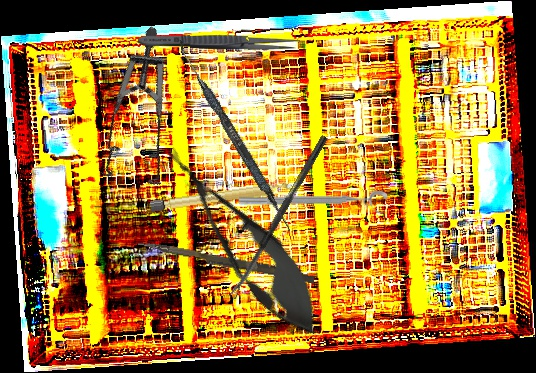Dressing Forceps: (137, 32, 301, 52)
Fixation Ring: (238, 190, 388, 218)
Micro Scissor: (147, 131, 340, 350)
Pusher: (136, 240, 316, 284)
Scalpel Handle: (149, 181, 294, 213)
Spatula Surgical: (170, 39, 298, 233)
Speculum: (56, 25, 236, 208)
Surgical Spoon: (228, 134, 328, 300)
